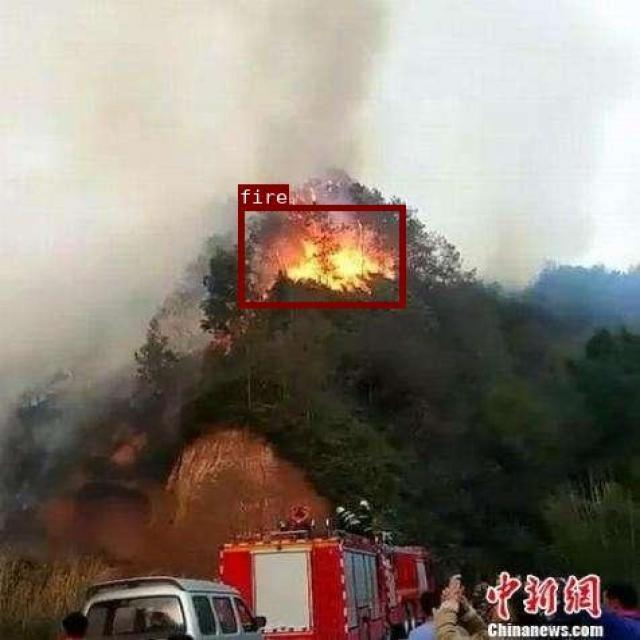fire: (237, 204, 404, 306)
